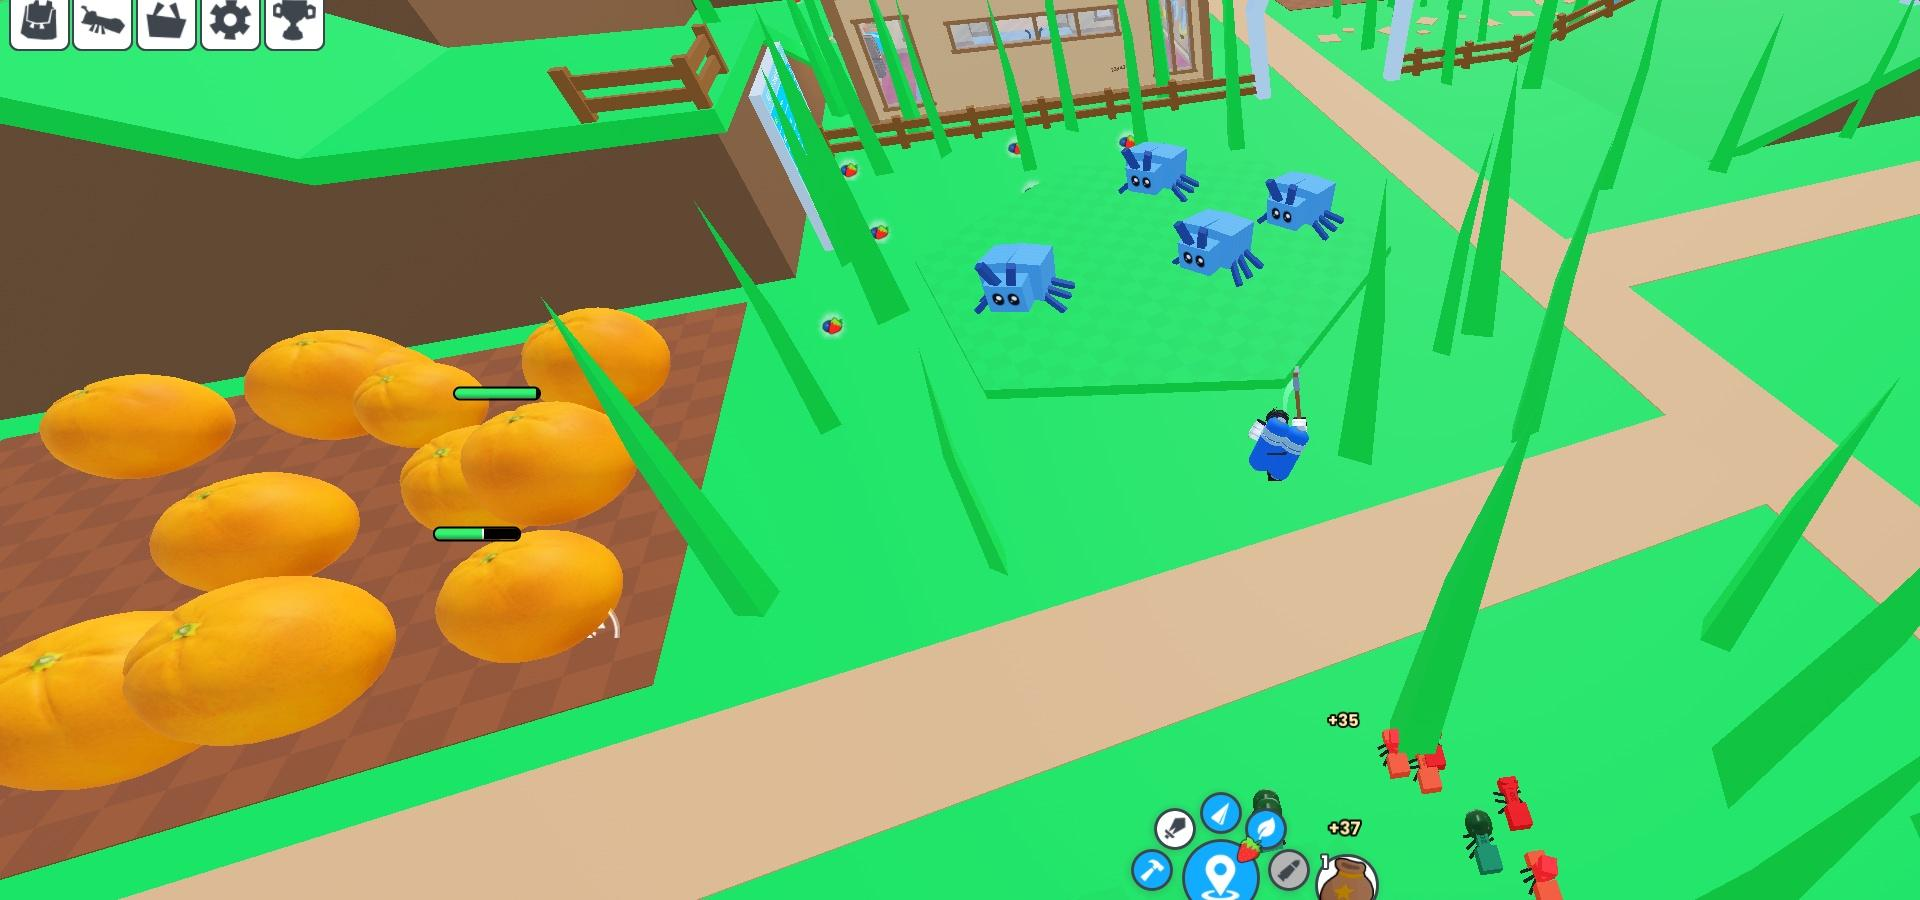Enemy: (1173, 209, 1259, 284), (975, 241, 1058, 317), (1259, 169, 1340, 241), (1119, 138, 1190, 200)
